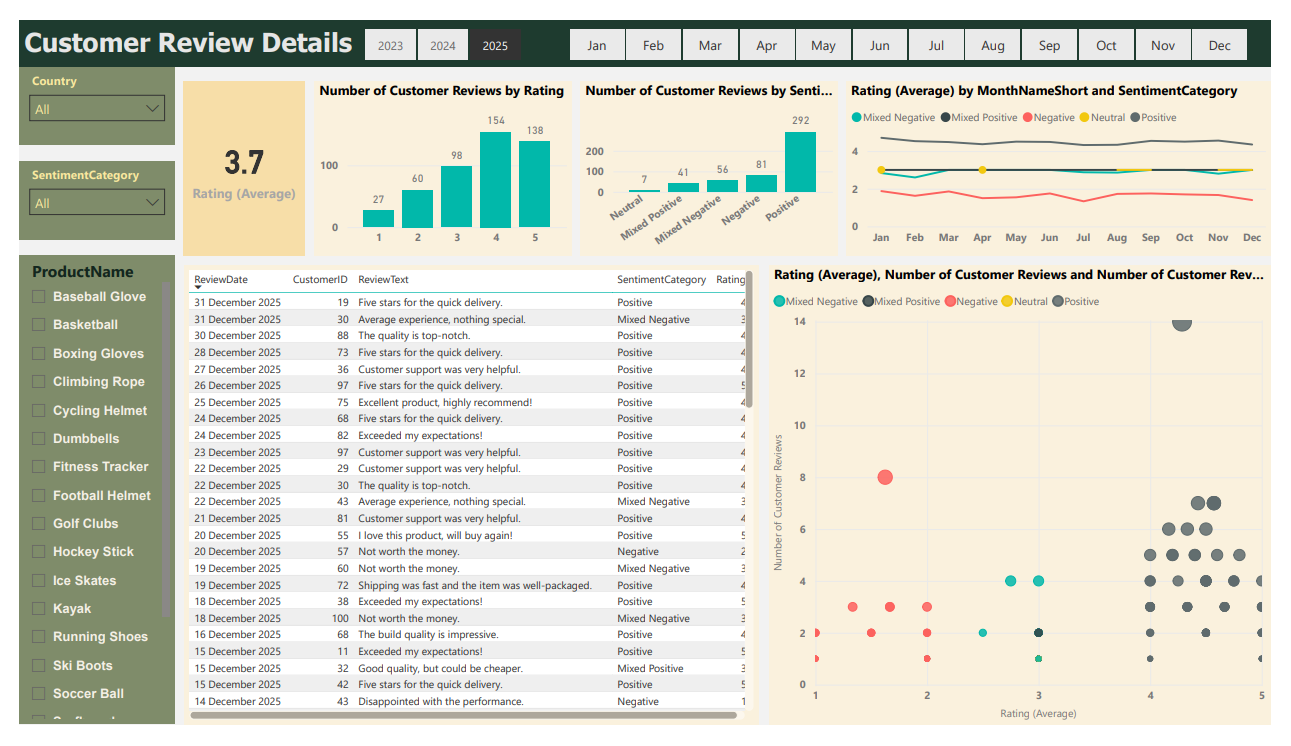

The page's visual inventory and layout, read from the dashboard file:
{"tool":"powerbi","page":{"name":"Customer Review Details","canvas":[1280,720],"ordinal":3},"visuals":[{"type":"textbox","box":[0,0,1280,48.5],"z":0},{"type":"slicer","fields":{"Values":["dim_products.ProductName"]},"box":[0,240,159.4,479.4],"z":1000},{"type":"card","fields":{"Values":["_Calculations.Rating (Average)"]},"box":[168.5,61.9,123.8,178.5],"z":2000},{"type":"slicer","fields":{"Values":["Calendar.MonthNameShort"]},"box":[536.9,2.3,743.1,44.6],"z":3000},{"type":"lineChart","fields":{"Category":["Calendar.MonthNameShort"],"Series":["fact_customer_reviews_with_sentiment.SentimentCategory"],"Y":["_Calculations.Rating (Average)"]},"box":[846.2,62,434.1,178.4],"z":4000},{"type":"slicer","fields":{"Values":["Calendar.Year"]},"box":[328.5,2.3,208.5,44.4],"z":5000},{"type":"tableEx","fields":{"Values":["fact_customer_reviews_with_sentiment.ReviewDate","fact_customer_reviews_with_sentiment.CustomerID","fact_customer_reviews_with_sentiment.ReviewText","fact_customer_reviews_with_sentiment.SentimentCategory","fact_customer_reviews_with_sentiment.Rating"]},"box":[168,250,588,470],"z":6000},{"type":"columnChart","fields":{"Category":["fact_customer_reviews_with_sentiment.Rating"],"Y":["_Calculations.Number of Customer Reviews"]},"box":[302.4,62,262.4,178.4],"z":7000},{"type":"columnChart","fields":{"Category":["fact_customer_reviews_with_sentiment.SentimentCategory"],"Y":["_Calculations.Number of Customer Reviews"]},"box":[574.3,62,262.4,178.4],"z":8000},{"type":"slicer","fields":{"Values":["dim_customers.Country"]},"box":[0,48.2,159.3,78.3],"z":9000},{"type":"slicer","fields":{"Values":["fact_customer_reviews_with_sentiment.SentimentCategory"]},"box":[0,143.3,159.3,80],"z":10000},{"type":"scatterChart","fields":{"Category":["dim_customers.CustomerID"],"Series":["fact_customer_reviews_with_sentiment.SentimentCategory"],"Size":["_Calculations.Number of Customer Reviews"],"X":["_Calculations.Rating (Average)"],"Y":["_Calculations.Number of Customer Reviews"]},"box":[767.3,250,512.7,470],"z":11000}]}

Visuals, with their boxes in screenshot pixels (x1, y1, x2, y2), scaled from the page's 1280x720 canvas onto the 1291x746 screenshot:
textbox: x1=0, y1=0, x2=1290, y2=50
slicer - dim_products.ProductName: x1=0, y1=249, x2=161, y2=745
card - _Calculations.Rating (Average): x1=170, y1=64, x2=295, y2=249
slicer - Calendar.MonthNameShort: x1=542, y1=2, x2=1290, y2=49
lineChart - Calendar.MonthNameShort x fact_customer_reviews_with_sentiment.SentimentCategory: x1=853, y1=64, x2=1290, y2=249
slicer - Calendar.Year: x1=331, y1=2, x2=542, y2=48
tableEx - fact_customer_reviews_with_sentiment.ReviewDate x fact_customer_reviews_with_sentiment.CustomerID: x1=169, y1=259, x2=762, y2=745
columnChart - fact_customer_reviews_with_sentiment.Rating x _Calculations.Number of Customer Reviews: x1=305, y1=64, x2=570, y2=249
columnChart - fact_customer_reviews_with_sentiment.SentimentCategory x _Calculations.Number of Customer Reviews: x1=579, y1=64, x2=844, y2=249
slicer - dim_customers.Country: x1=0, y1=50, x2=161, y2=131
slicer - fact_customer_reviews_with_sentiment.SentimentCategory: x1=0, y1=148, x2=161, y2=231
scatterChart - dim_customers.CustomerID x fact_customer_reviews_with_sentiment.SentimentCategory: x1=774, y1=259, x2=1290, y2=745
